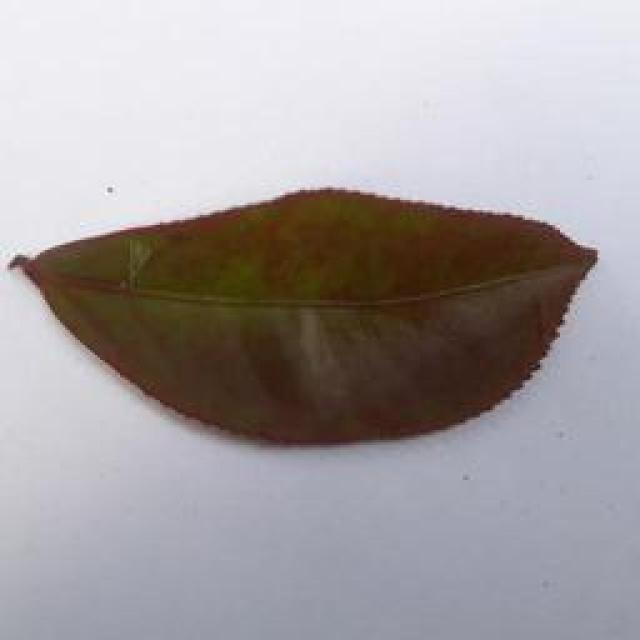Red Leaf Spot: (10, 160, 610, 462)
